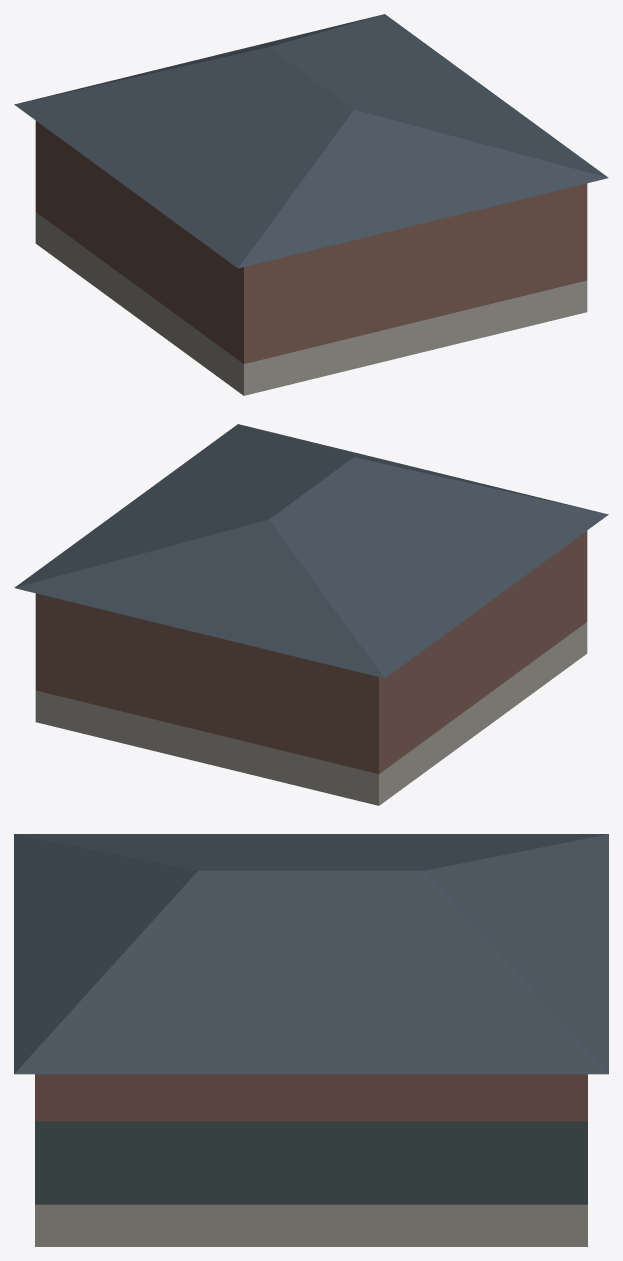
File: far.fbx
3 views of the same model, one above another, from view 1: azimuth 30°, elevation 25°; view 2: azimuth 150°, elevation 25°; view 3: azimuth 270°, elevation 25° (orthographic). The views are drawn at different scales.
Visible parts, largest first — view 1: a2000s3/600/far; view 2: a2000s3/600/far; view 3: a2000s3/600/far.
Part boxes in pixels (box(x1,y1,x2,y2)): a2000s3/600/far: box(14, 14, 608, 395); a2000s3/600/far: box(14, 424, 608, 805); a2000s3/600/far: box(14, 834, 608, 1246).
Size of the model in its own units: 10.8 by 5.55 by 11.3.
